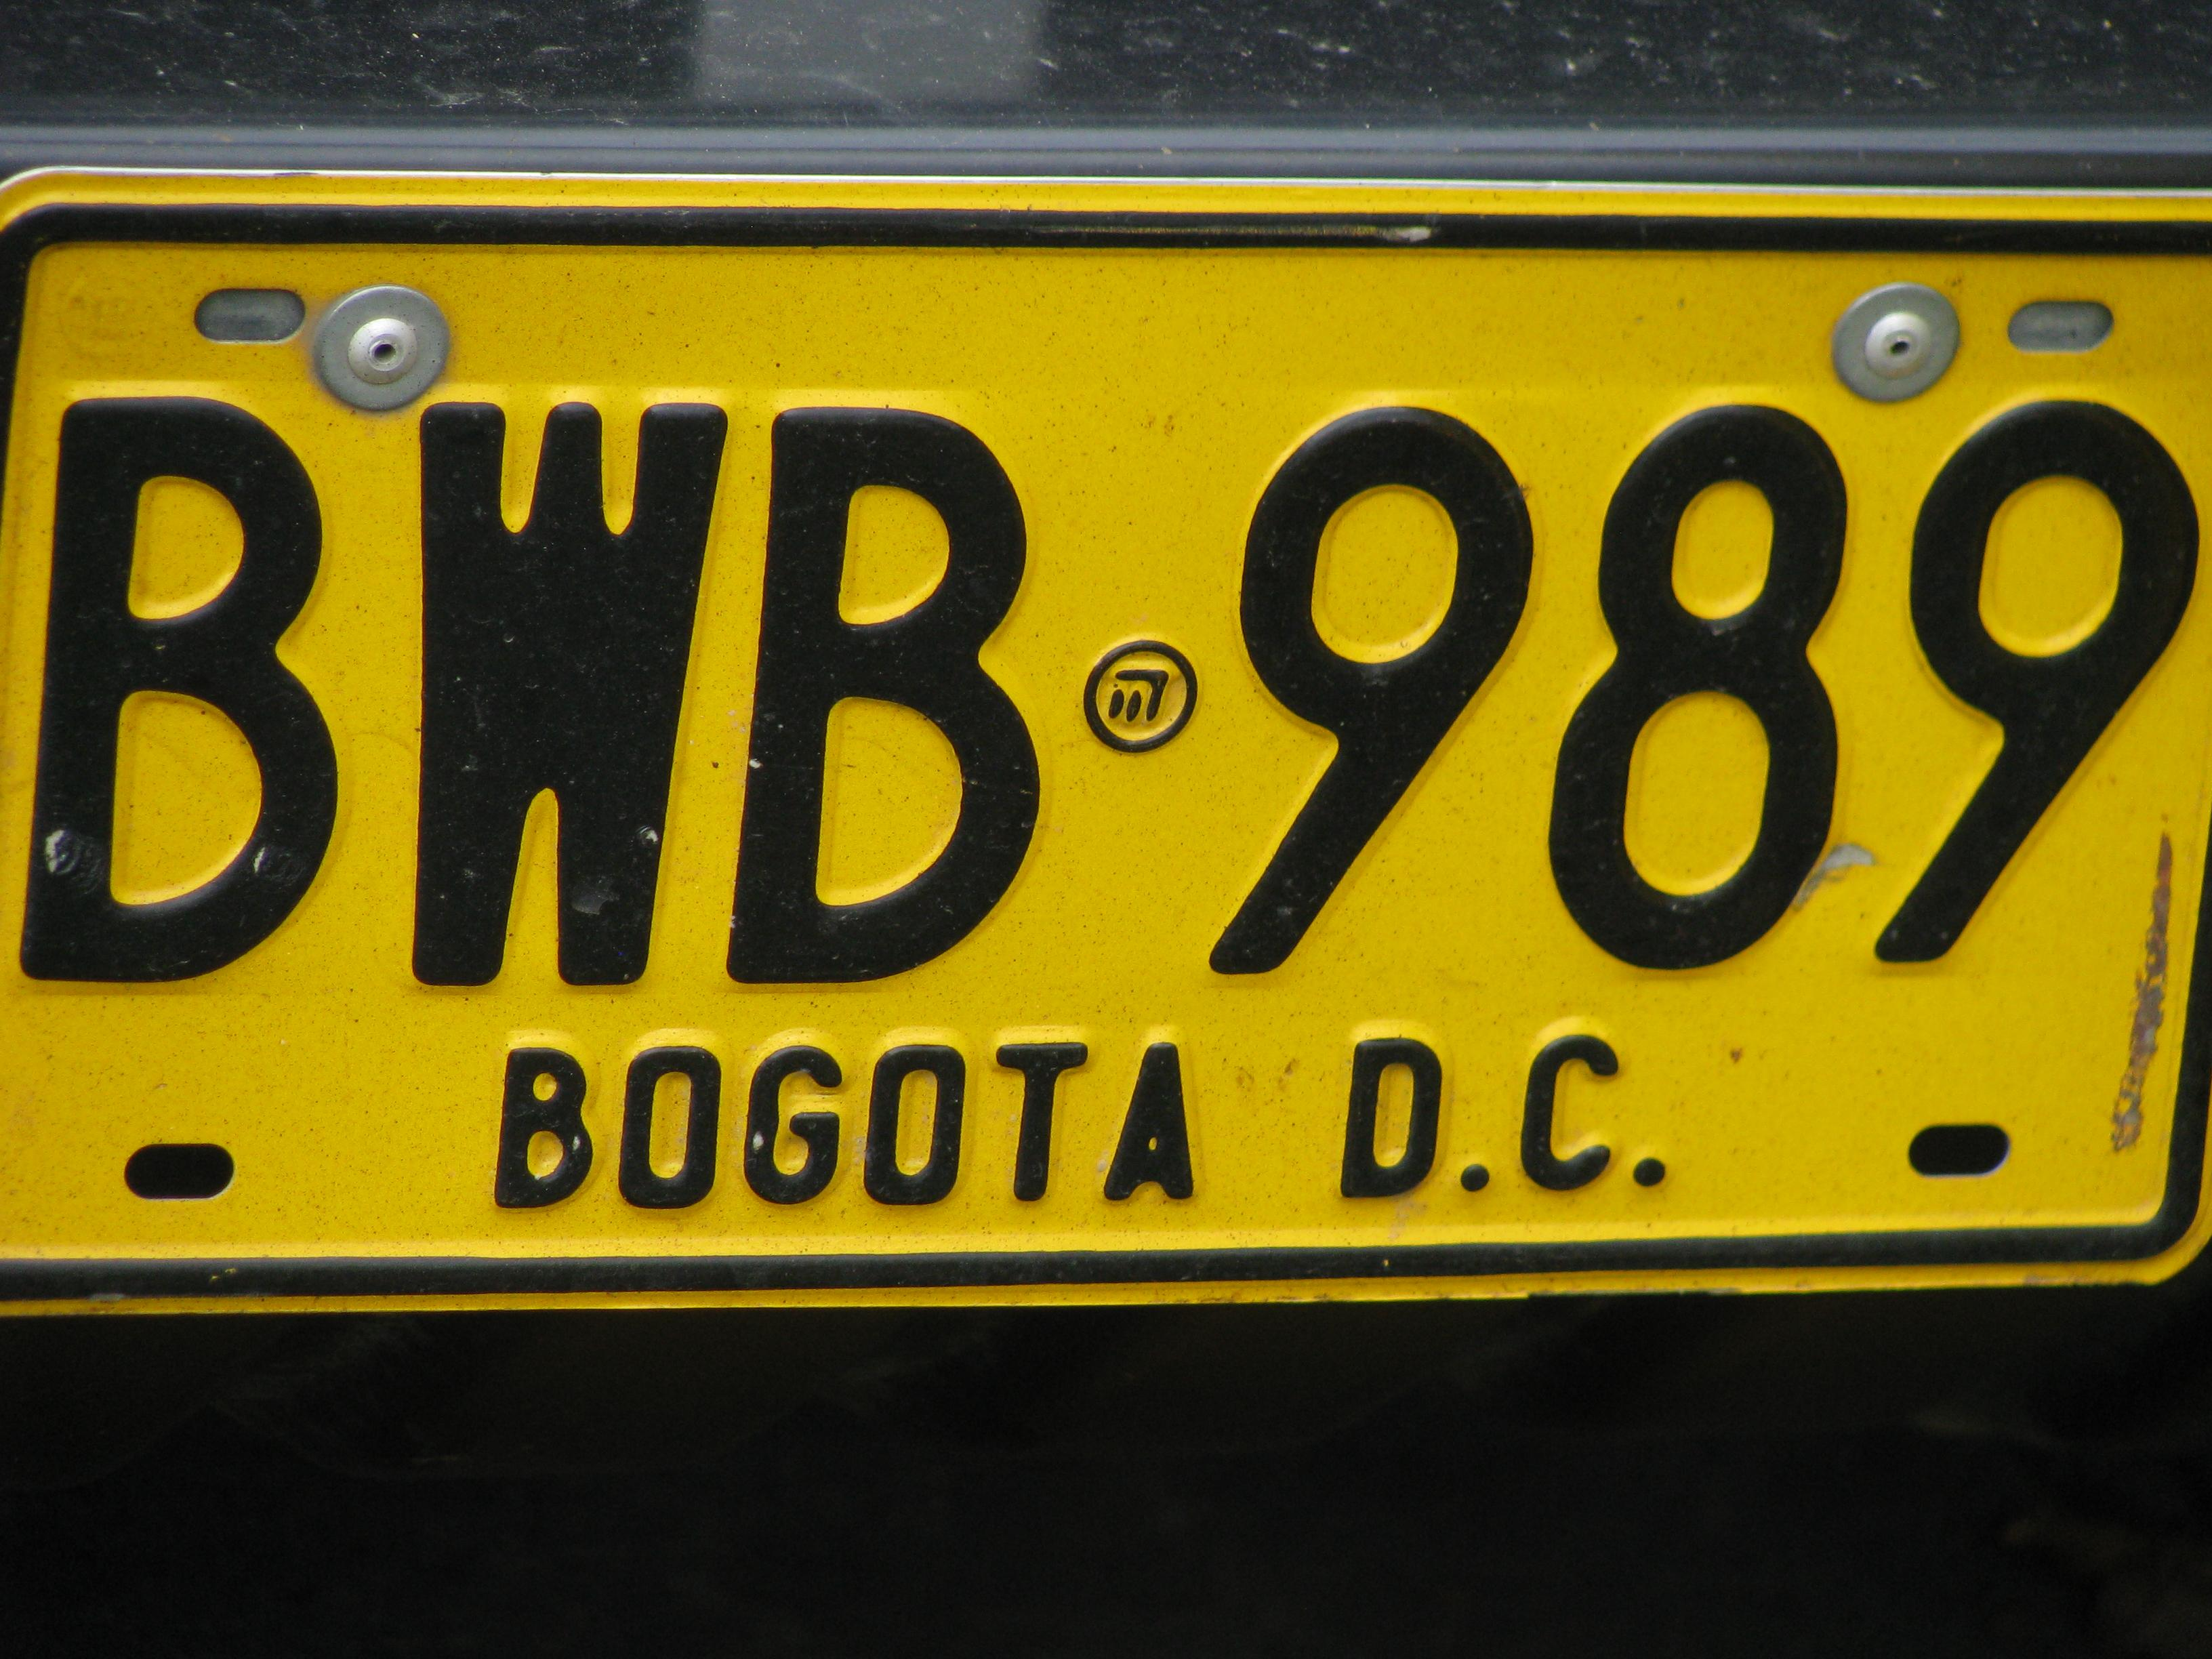placas: (3, 157, 2204, 1317)
